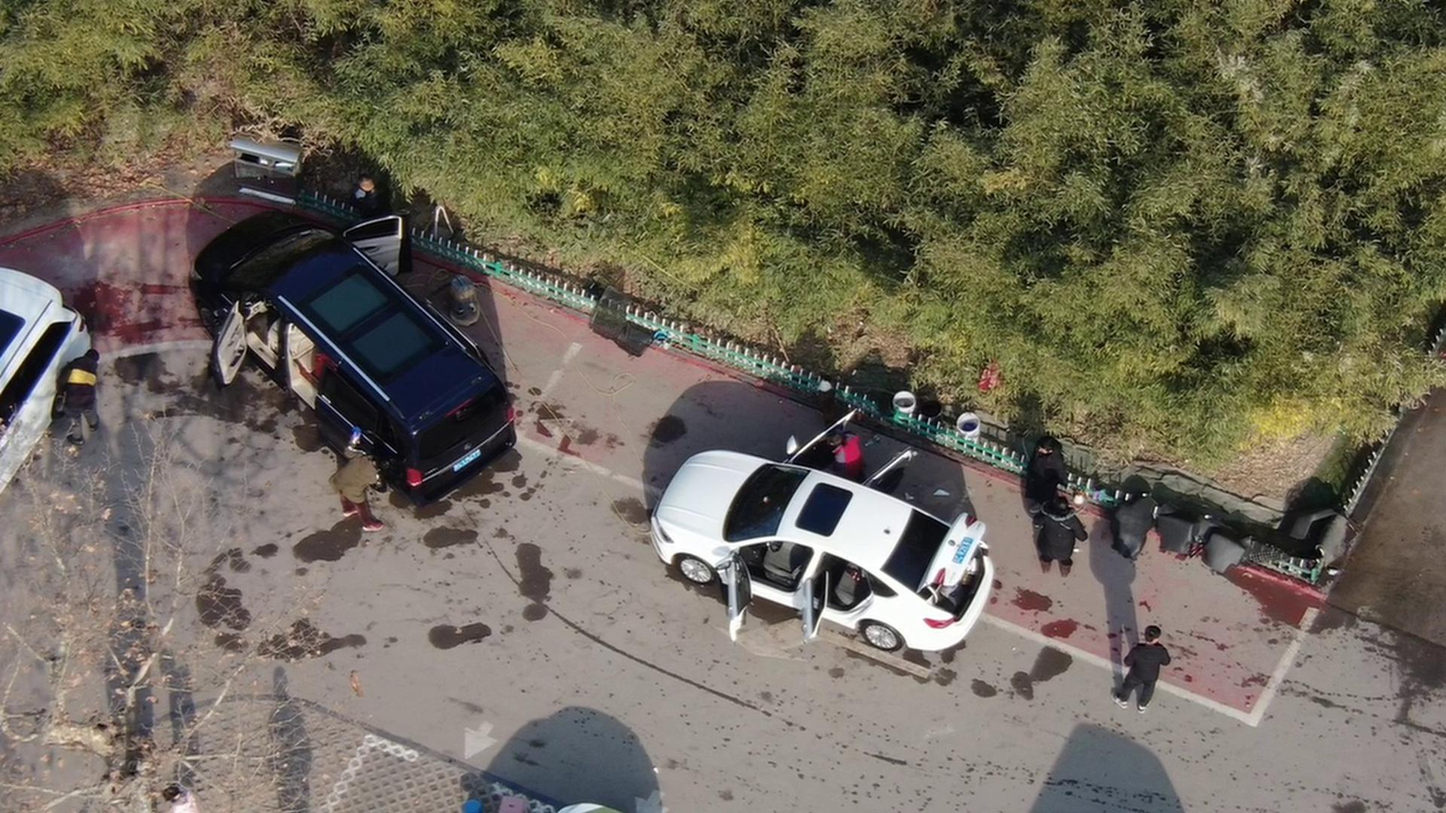human: (57, 339, 120, 446), (1112, 612, 1168, 708), (328, 440, 383, 529), (1035, 492, 1085, 574), (1020, 428, 1069, 495), (355, 167, 398, 236), (821, 423, 868, 480)
